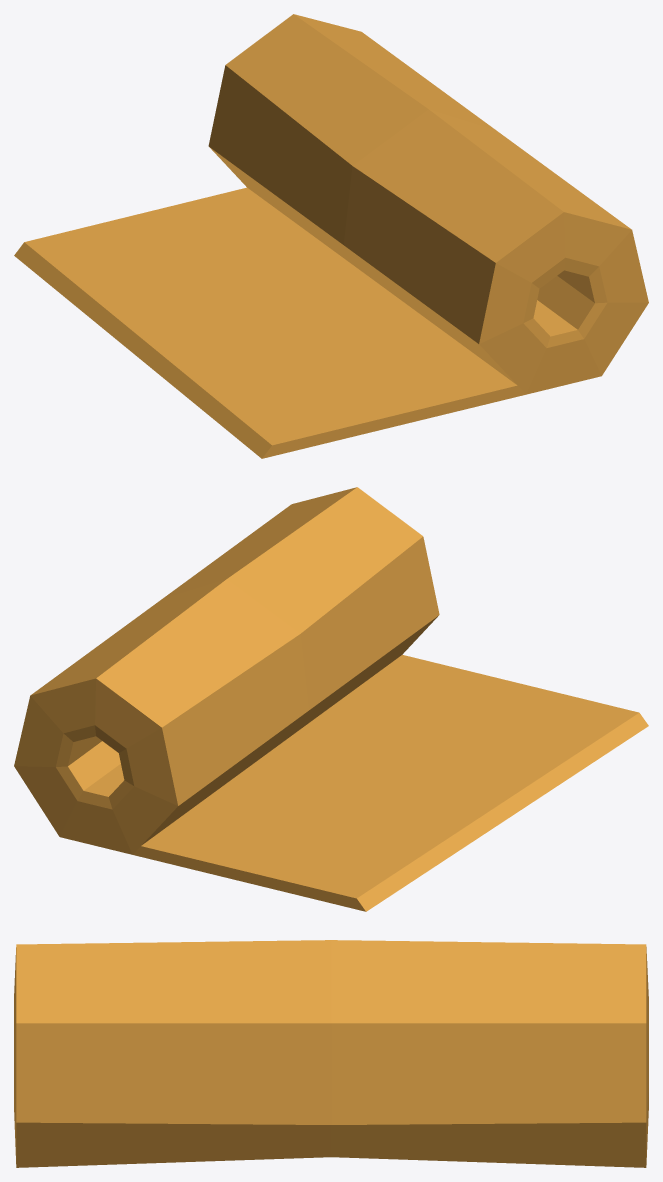
Rendered from fiberglass.fbx.
3 renders of one model, top to bottom at view 1: azimuth 30°, elevation 25°; view 2: azimuth 150°, elevation 25°; view 3: azimuth 270°, elevation 25°, orthographic. The views are drawn at different scales.
Parts seen in each view (by area): view 1: fiberglass; view 2: fiberglass; view 3: fiberglass.
Boxes of the visible parts, x1,y1,x2,y2 form: fiberglass: (14, 14, 648, 458); fiberglass: (14, 487, 648, 911); fiberglass: (14, 940, 648, 1167).
Size of the model in its own units: 0.6679 by 0.2891 by 0.8062.
